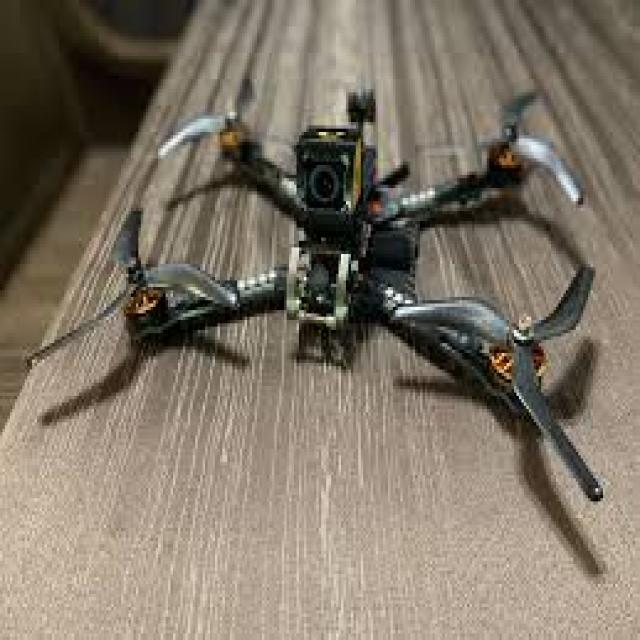drone: (79, 59, 630, 467)
